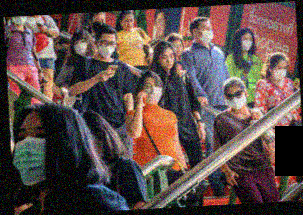with_mask: (12, 125, 48, 187), (223, 89, 248, 111), (142, 81, 163, 104), (96, 38, 117, 59), (196, 25, 214, 45), (269, 64, 289, 82), (88, 16, 107, 31), (72, 39, 88, 56), (239, 35, 253, 52), (11, 16, 28, 25)
without_mask: (158, 52, 176, 70), (171, 42, 184, 57), (121, 16, 134, 30)
